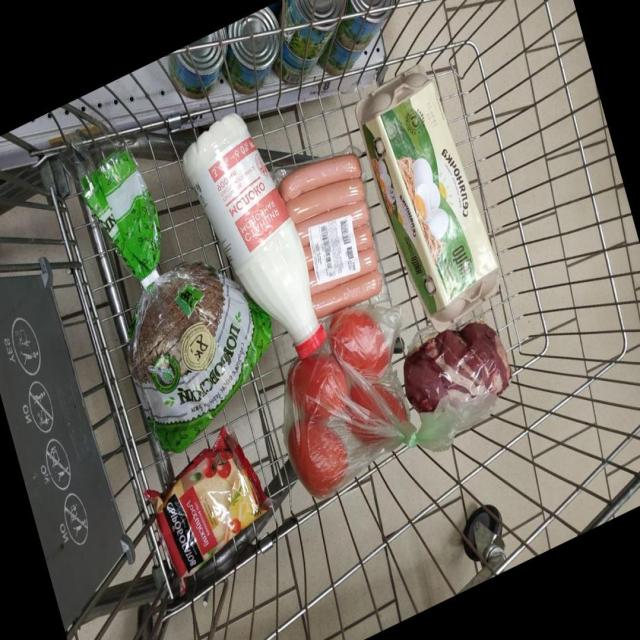cheese: (129, 261, 396, 640)
egg: (248, 148, 640, 417)
milk: (160, 167, 470, 465)
tomato: (205, 203, 596, 594), (176, 211, 529, 640), (176, 243, 519, 640), (174, 189, 510, 547), (194, 168, 564, 482)
